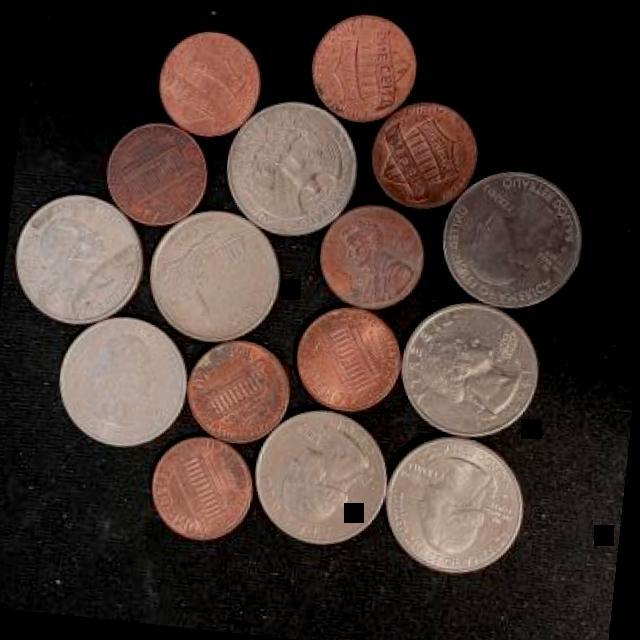Penny: (314, 196, 442, 316), (304, 10, 428, 130), (287, 298, 413, 416), (98, 111, 218, 234), (142, 431, 264, 550), (366, 93, 482, 214), (177, 334, 299, 448), (152, 26, 270, 141)
Quarter: (435, 159, 593, 317), (377, 425, 535, 581), (389, 294, 551, 446), (244, 398, 396, 552), (49, 306, 200, 456), (138, 204, 294, 348), (218, 95, 367, 242), (0, 185, 150, 329)
